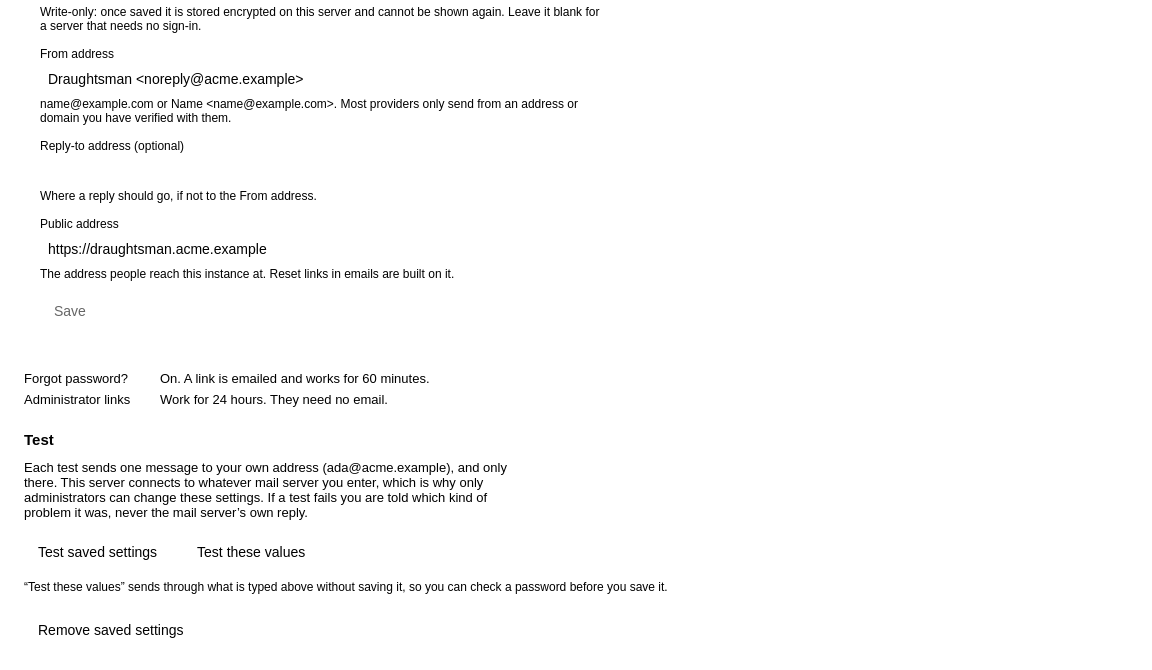
Test: EmailPage › remove saved settings › can be cancelled without removing anything
The image size is (1152, 670).
(page scrolled)
Click the button "Remove saved settings": point(111, 630) x1=24 y1=614 x2=198 y2=646
(page scrolled)
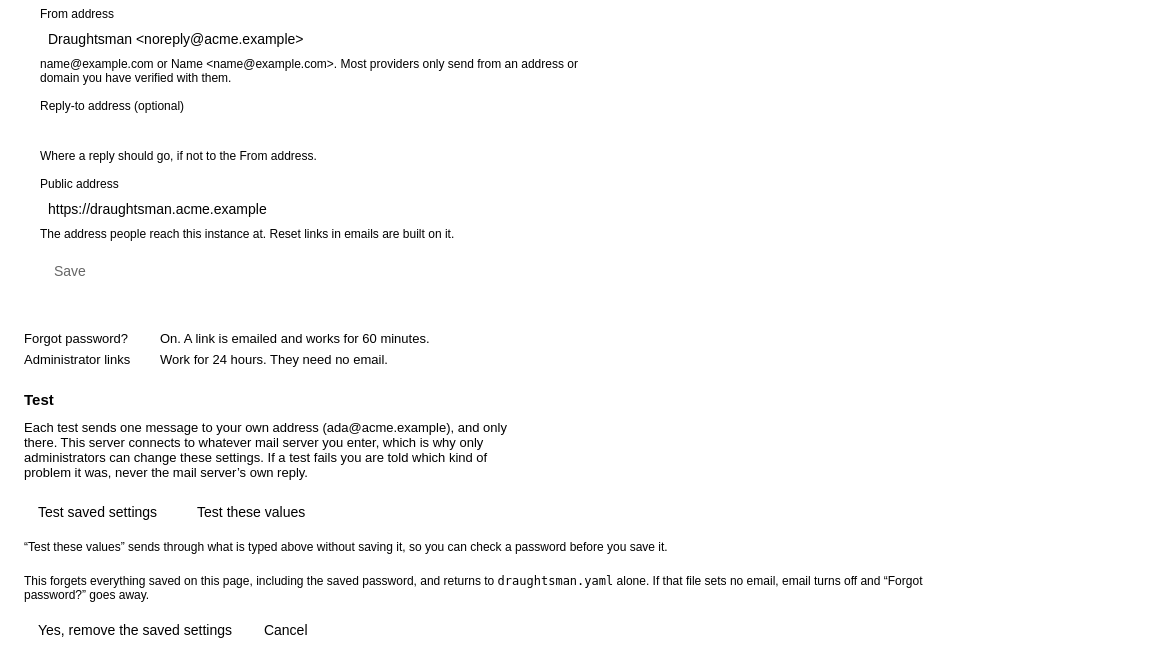
Click the button "Cancel": point(286, 630) x1=250 y1=614 x2=322 y2=646
(page scrolled)
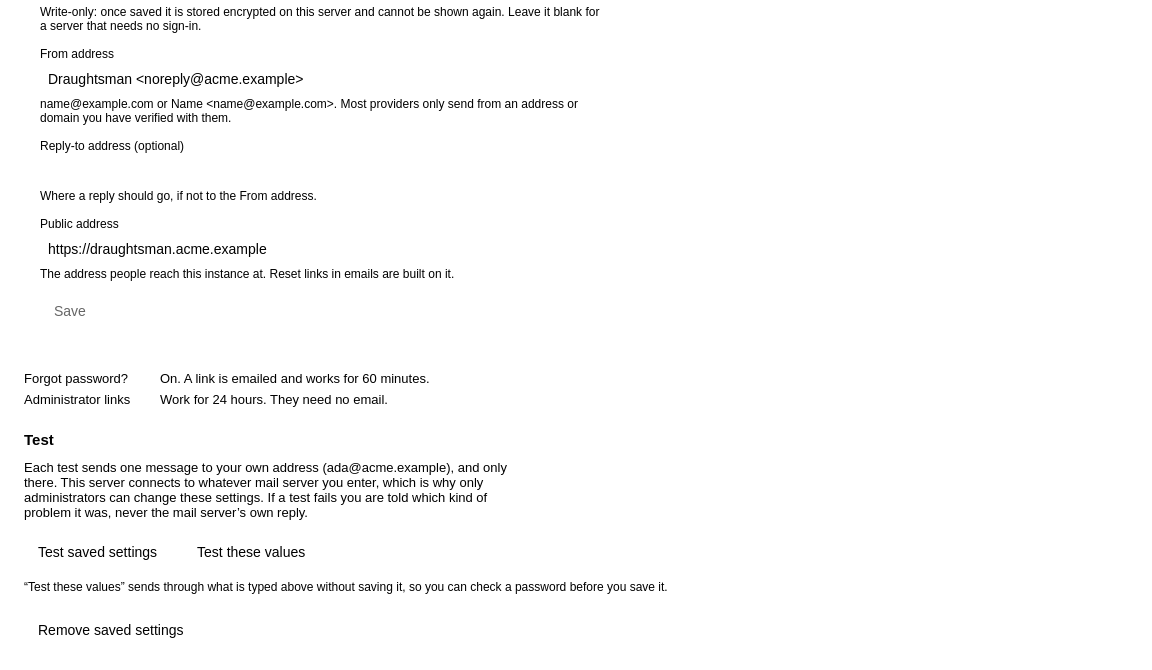
Expected: the button "Remove saved settings" is shown, x1=24 y1=614 x2=198 y2=646
